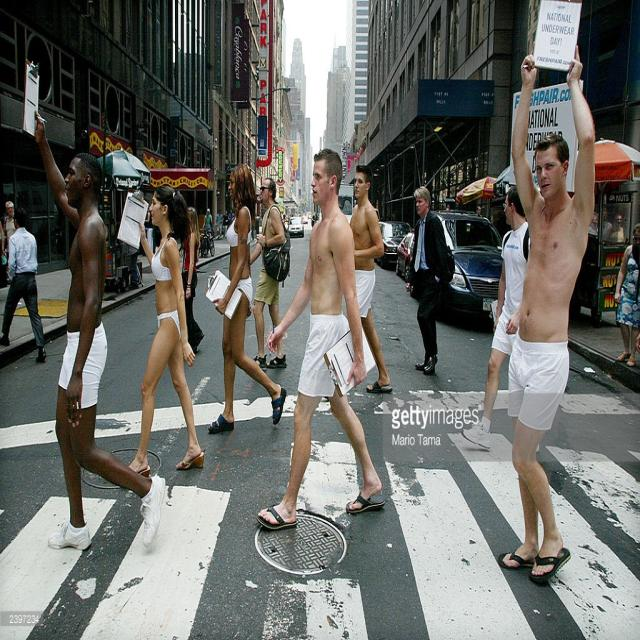body: (32, 109, 170, 556), (495, 39, 600, 589), (253, 146, 388, 534), (115, 181, 208, 485), (203, 163, 288, 438), (460, 184, 532, 453), (346, 164, 394, 396), (403, 183, 457, 375), (0, 203, 48, 365), (249, 175, 287, 374), (613, 221, 639, 368), (181, 205, 206, 354), (589, 208, 629, 246), (2, 200, 18, 266), (0, 220, 8, 289), (201, 207, 213, 236), (215, 209, 224, 237), (222, 209, 229, 239), (228, 208, 235, 224), (309, 214, 315, 230), (474, 204, 482, 216), (444, 202, 451, 212)
